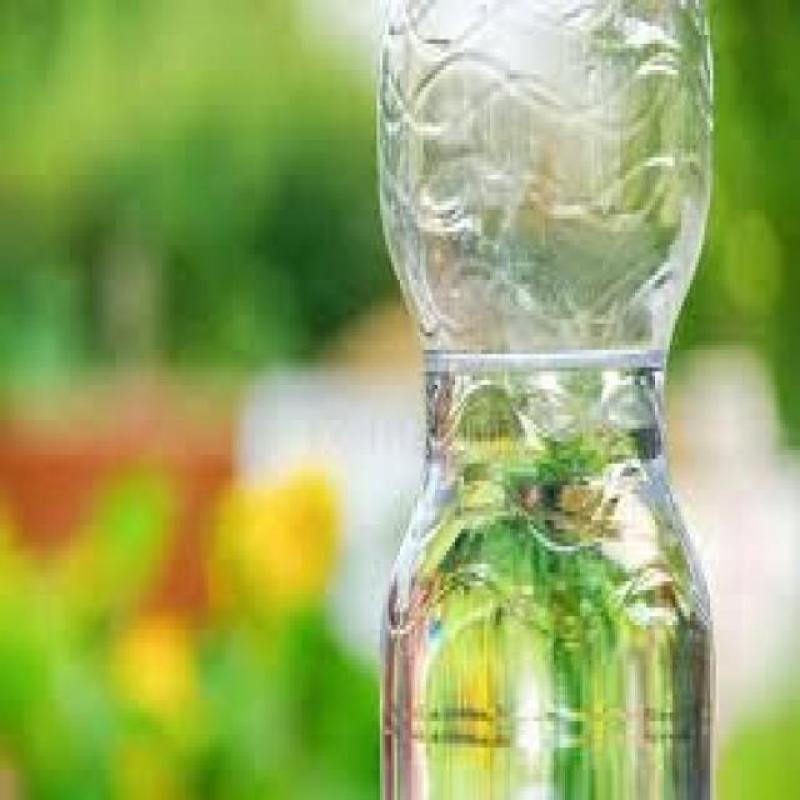botella: (372, 0, 718, 800)
